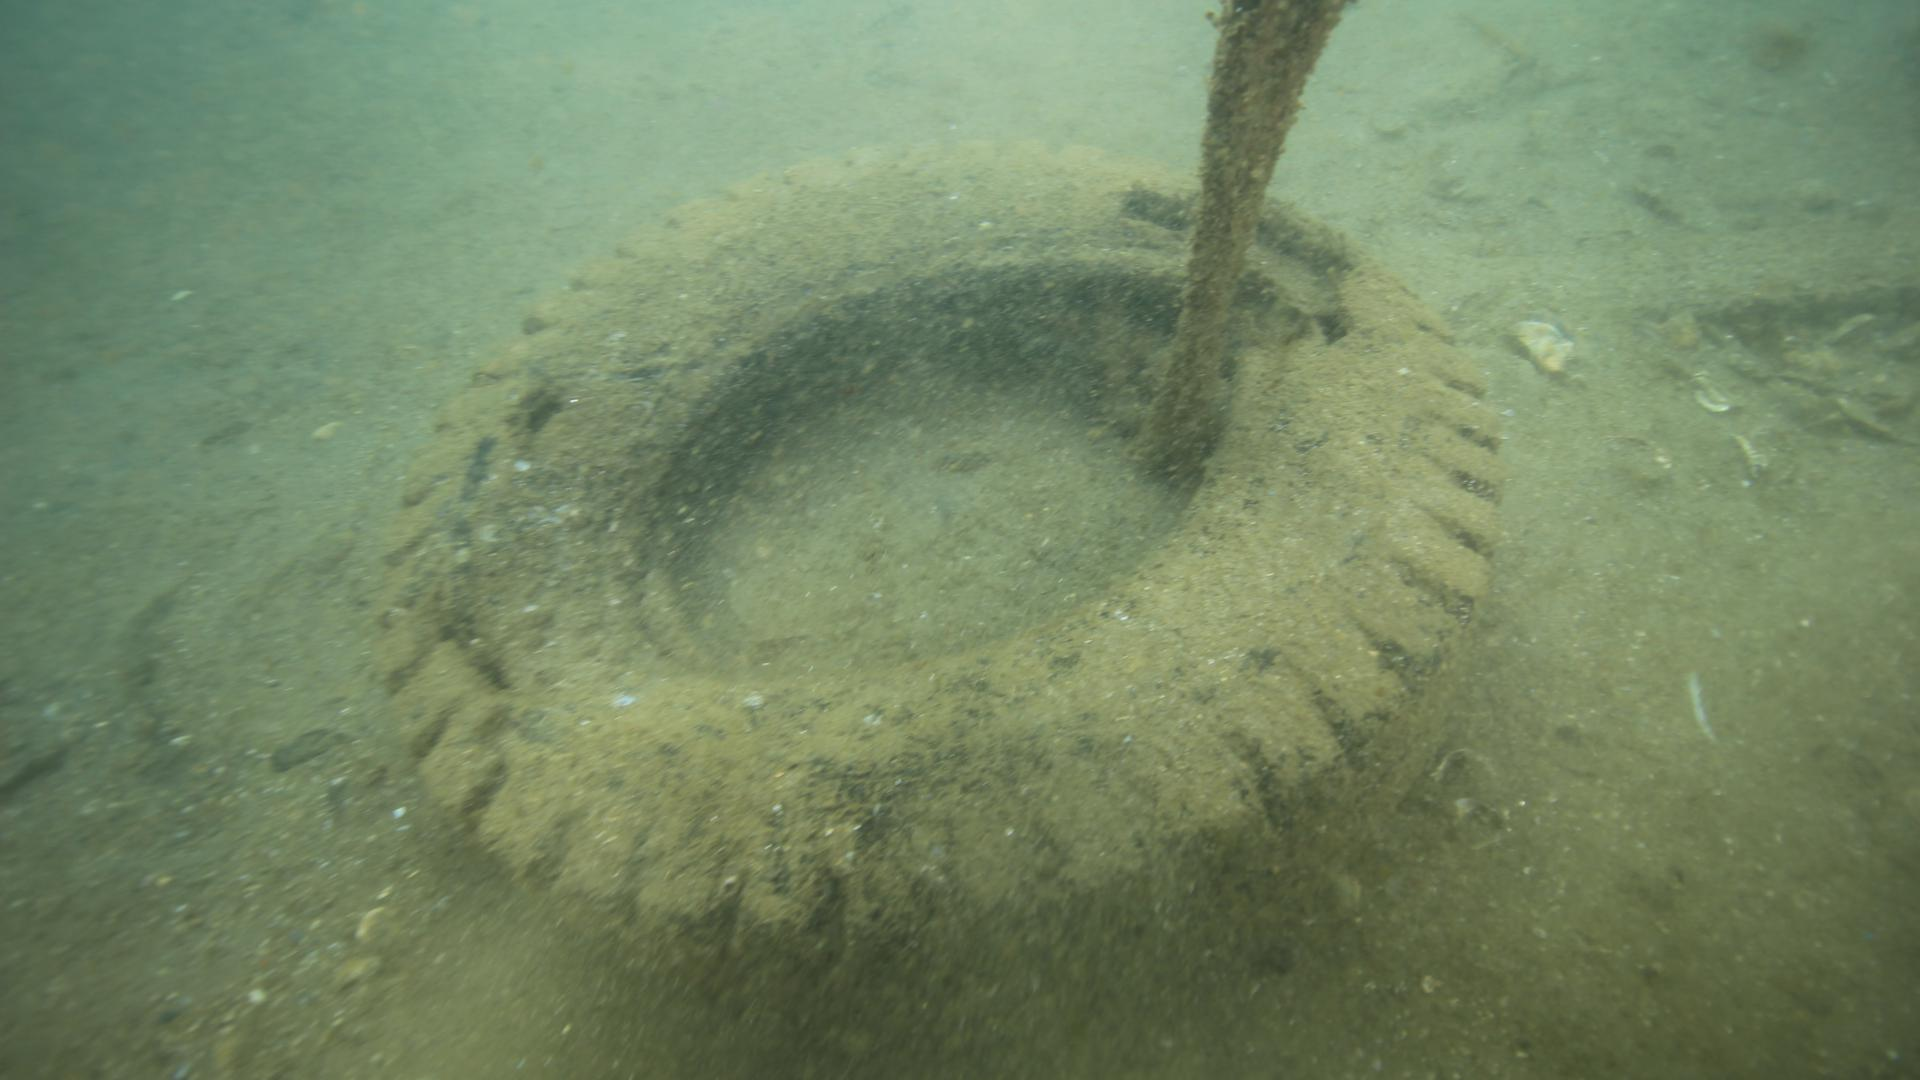tire: (371, 135, 1505, 1021)
